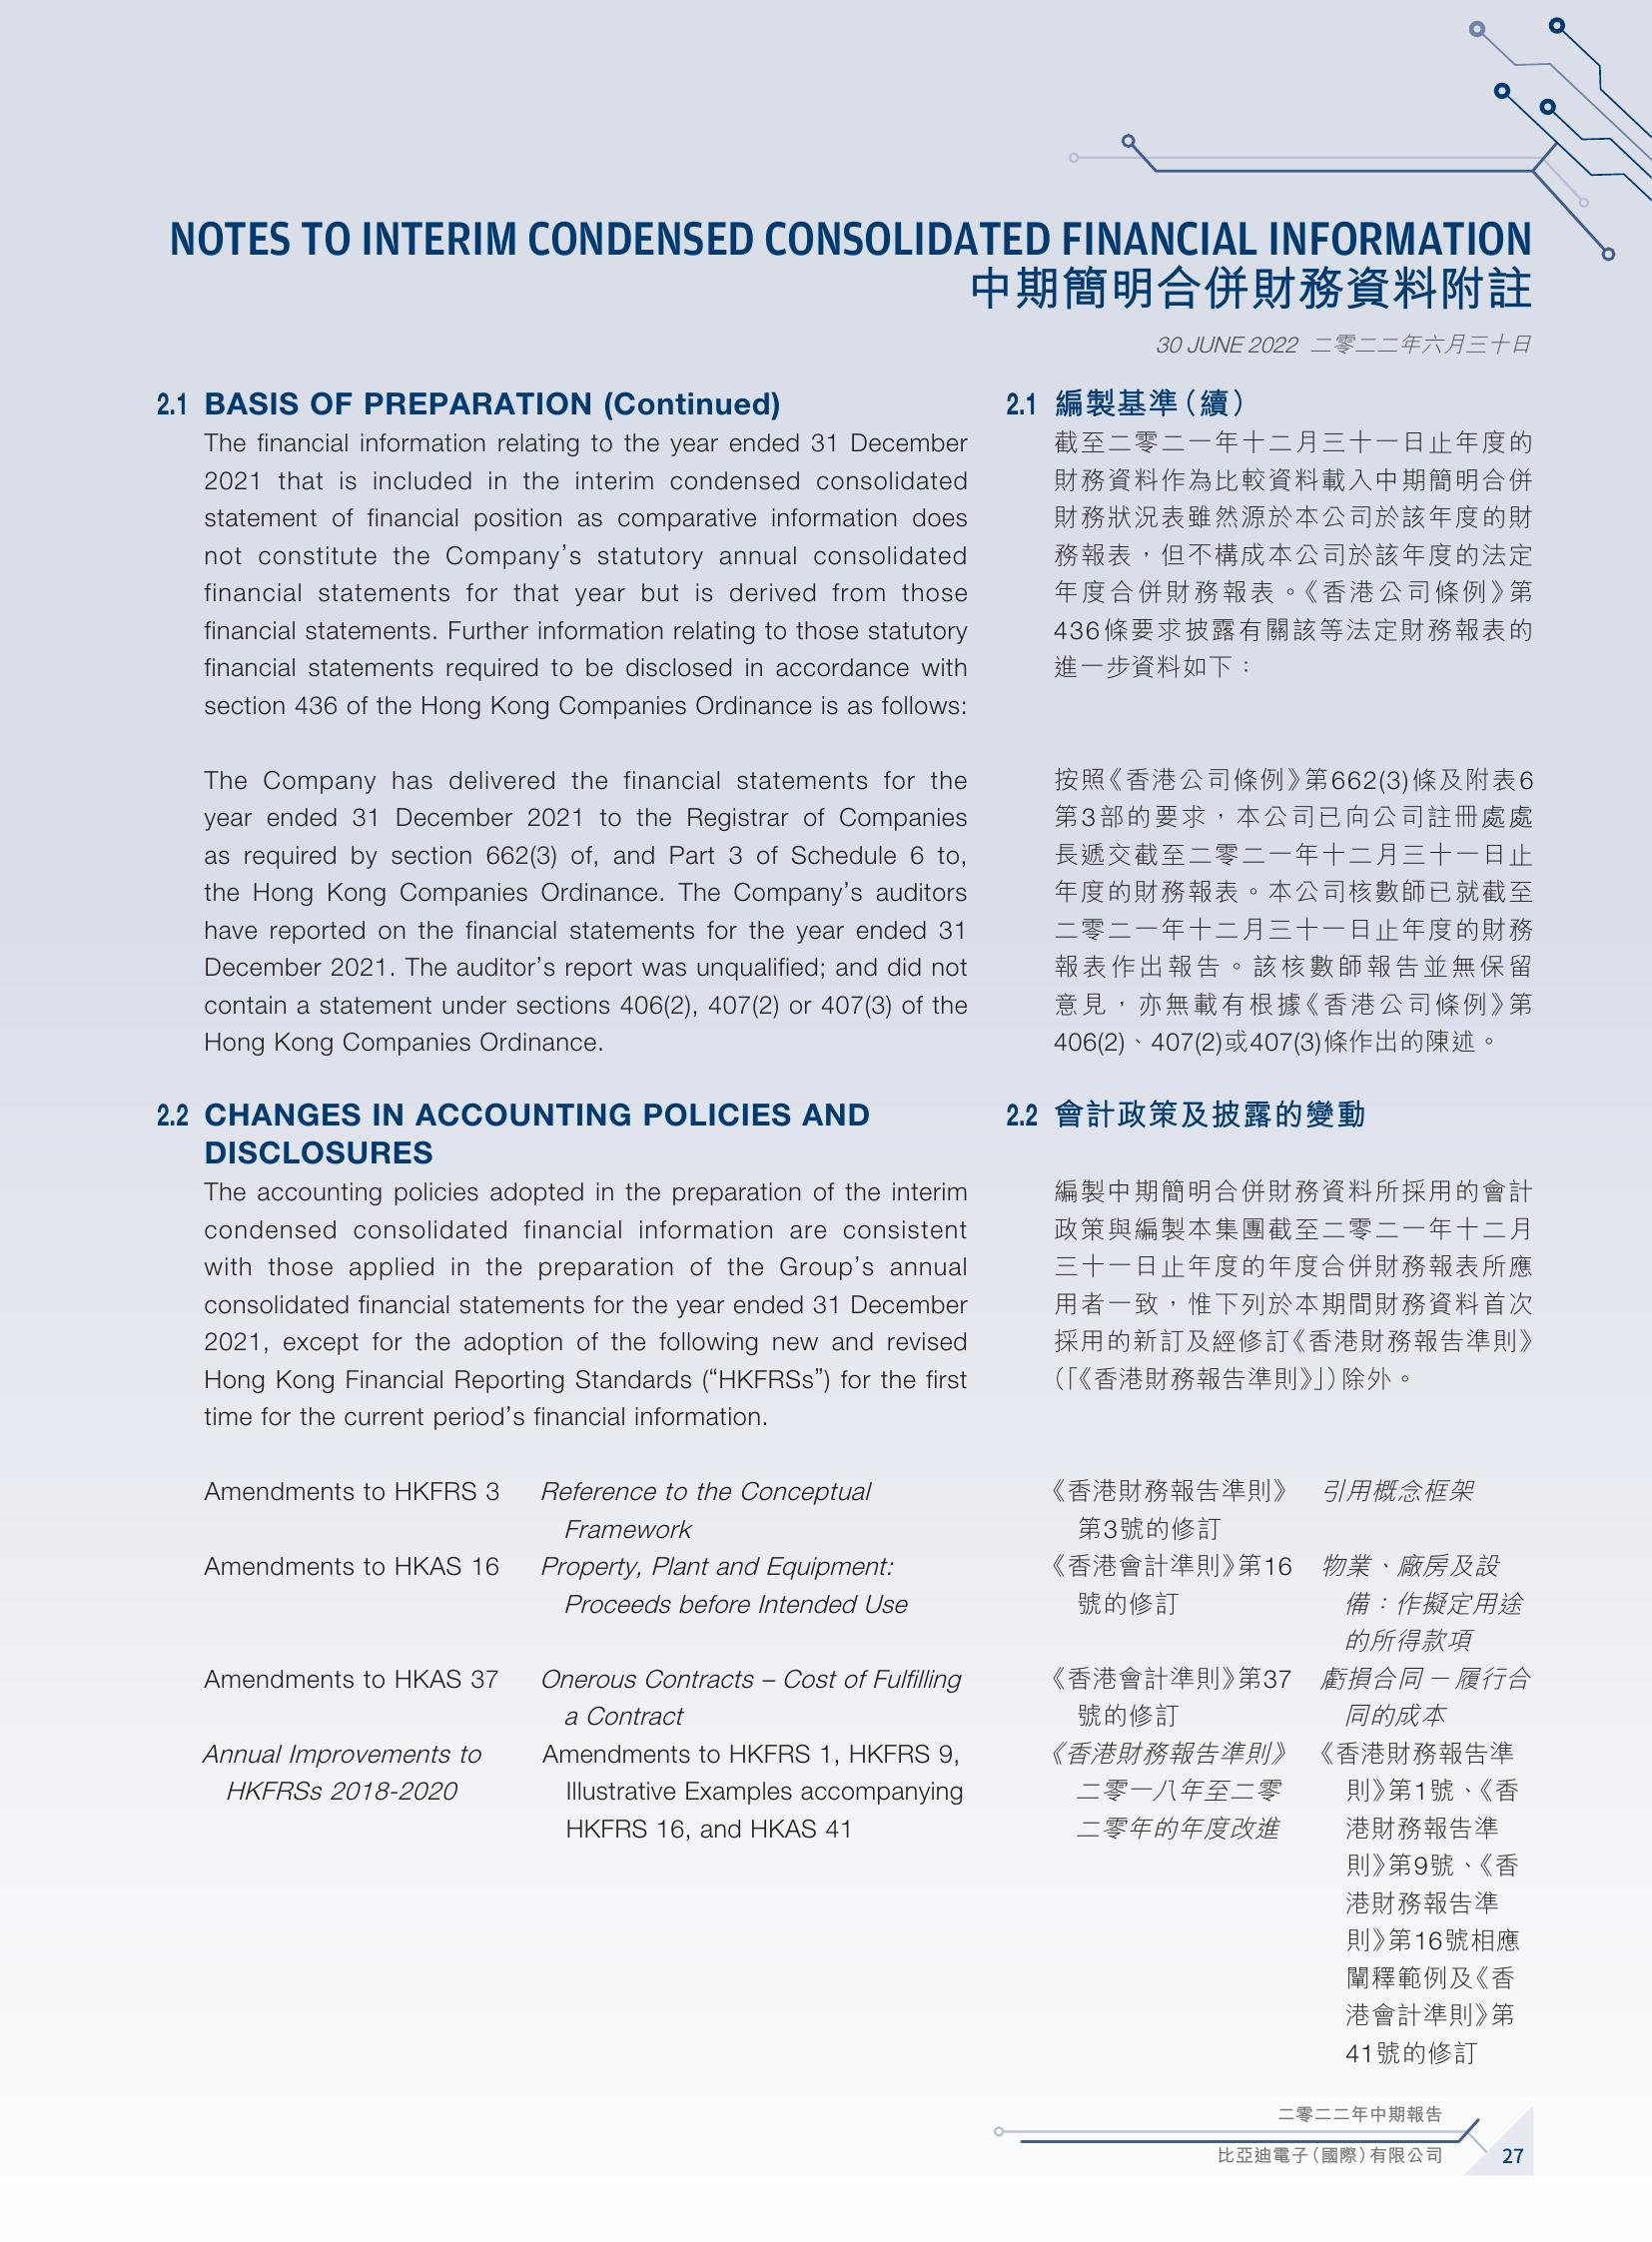Footer: (0, 2089, 1652, 2242)
Header: (0, 0, 1652, 201)
